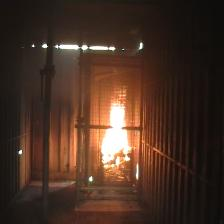fire: (102, 86, 132, 169)
